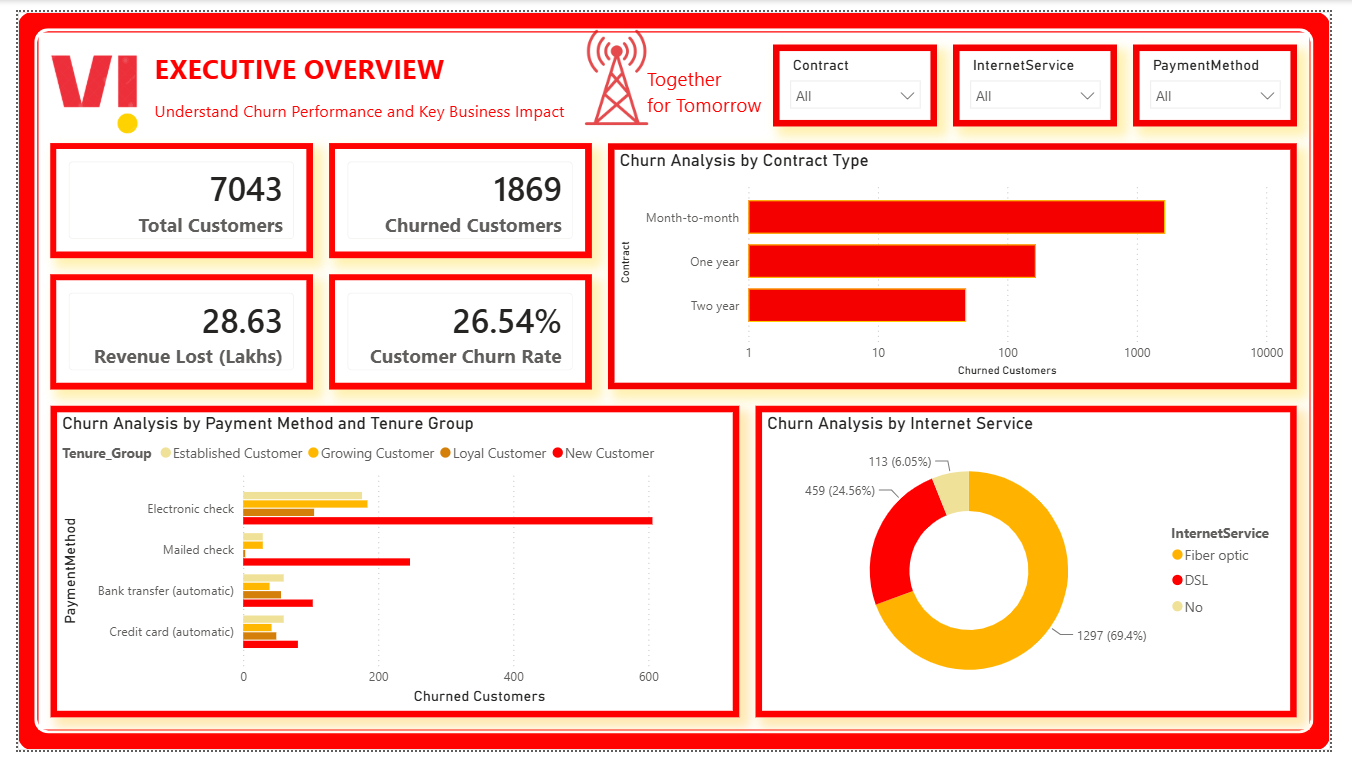

The dashboard page shown, as its layout file describes it:
{"tool":"powerbi","page":{"name":"Executive  Overview","canvas":[1280,720],"ordinal":0},"visuals":[{"type":"shape","box":[0,0,1280,720],"z":0},{"type":"shape","box":[16,16,1248,688],"z":1000},{"type":"image","box":[16,16,128,128],"z":2000},{"type":"textbox","box":[128,32,352,48],"z":3000},{"type":"textbox","box":[128,80,480,48],"z":4000},{"type":"textbox","box":[608,48,128,64],"z":5000},{"type":"cardVisual","fields":{"Data":["Telco_Dataset.CHURNED CUSTOMERS"]},"box":[304,128,256,112],"z":6000},{"type":"cardVisual","fields":{"Data":["Telco_Dataset.CHURN RATE"]},"box":[304,256,256,112],"z":7000},{"type":"cardVisual","fields":{"Data":["Telco_Dataset.Revenue Lost (Lakhs)"]},"box":[32,256,256,112],"z":8000},{"type":"image","box":[528,16,112,96],"z":9000},{"type":"slicer","title":"CONTRACT","fields":{"Values":["Telco_Dataset.Contract"]},"box":[736,32,160,80],"z":10000},{"type":"slicer","title":"CONTRACT","fields":{"Values":["Telco_Dataset.PaymentMethod"]},"box":[1088,32,160,80],"z":11000},{"type":"slicer","title":"CONTRACT","fields":{"Values":["Telco_Dataset.InternetService"]},"box":[912,32,160,80],"z":12000},{"type":"donutChart","title":"Churn Analysis by Internet Service","fields":{"Y":["Telco_Dataset.CHURNED CUSTOMERS"],"Category":["Telco_Dataset.InternetService"]},"box":[720,384,528,304],"z":13000},{"type":"barChart","title":"Churn Analysis by Contract Type","fields":{"Category":["Telco_Dataset.Contract"],"Y":["Telco_Dataset.CHURNED CUSTOMERS"]},"box":[576,128,672,240],"z":14000},{"type":"clusteredBarChart","title":"Churn Analysis by Payment Method and Tenure Group","fields":{"Category":["Telco_Dataset.PaymentMethod"],"Y":["Telco_Dataset.CHURNED CUSTOMERS"],"Series":["Telco_Dataset.Tenure_Group"]},"box":[32,384,672,304],"z":15000},{"type":"cardVisual","fields":{"Data":["Telco_Dataset.TOTAL CUSTOMERS"]},"box":[32,128,256,112],"z":16000}]}

Visuals, with their boxes in screenshot pixels (x1, y1, x2, y2), scaled from the page's 1280x720 canvas onto the 1352x767 screenshot:
shape: (left=0, top=0, right=1351, bottom=766)
shape: (left=17, top=17, right=1335, bottom=750)
image: (left=17, top=17, right=152, bottom=153)
textbox: (left=135, top=34, right=507, bottom=85)
textbox: (left=135, top=85, right=642, bottom=136)
textbox: (left=642, top=51, right=777, bottom=119)
cardVisual - Telco_Dataset.CHURNED CUSTOMERS: (left=321, top=136, right=592, bottom=256)
cardVisual - Telco_Dataset.CHURN RATE: (left=321, top=273, right=592, bottom=392)
cardVisual - Telco_Dataset.Revenue Lost (Lakhs): (left=34, top=273, right=304, bottom=392)
image: (left=558, top=17, right=676, bottom=119)
"CONTRACT" slicer: (left=777, top=34, right=946, bottom=119)
"CONTRACT" slicer: (left=1149, top=34, right=1318, bottom=119)
"CONTRACT" slicer: (left=963, top=34, right=1132, bottom=119)
"Churn Analysis by Internet Service" donutChart: (left=760, top=409, right=1318, bottom=733)
"Churn Analysis by Contract Type" barChart: (left=608, top=136, right=1318, bottom=392)
"Churn Analysis by Payment Method and Tenure Group" clusteredBarChart: (left=34, top=409, right=744, bottom=733)
cardVisual - Telco_Dataset.TOTAL CUSTOMERS: (left=34, top=136, right=304, bottom=256)
